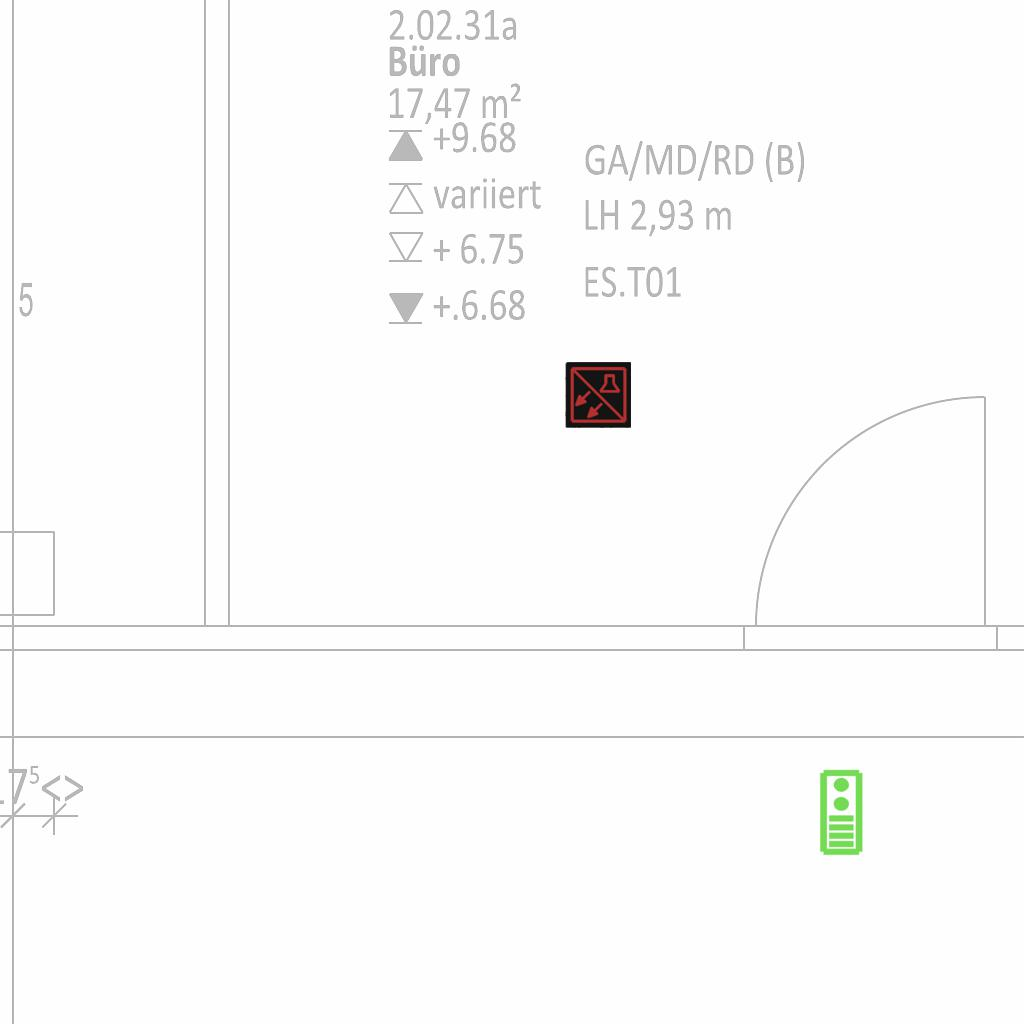Gegensprechanlage_mit_Video: (817, 768, 864, 856)
OKW_Multisensormelder_(Kombination_optischer_Rauch-Kahlenmonoxid_Waerme-Melder): (565, 362, 631, 428)
